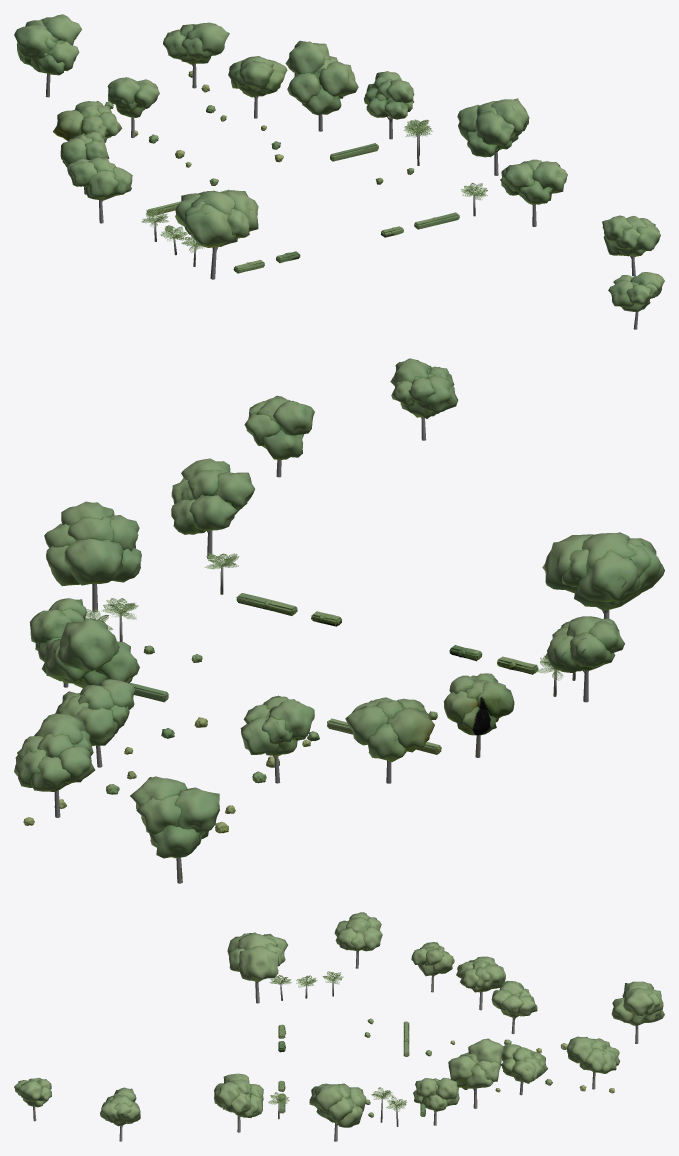
The model's file is world_trees.glb.
3 views of the same model, one above another, from view 1: azimuth 30°, elevation 25°; view 2: azimuth 150°, elevation 25°; view 3: azimuth 270°, elevation 25° (orthographic). The views are drawn at different scales.
Visible parts, largest first — view 1: W_trees; view 2: W_trees; view 3: W_trees.
Part boxes in pixels (<box>): W_trees: <box>14,14,664,329</box>; W_trees: <box>14,358,664,883</box>; W_trees: <box>14,912,664,1141</box>.
Bounding box in the file's own units: 73.87 × 16.44 × 121.
1 material, 1 textured.
